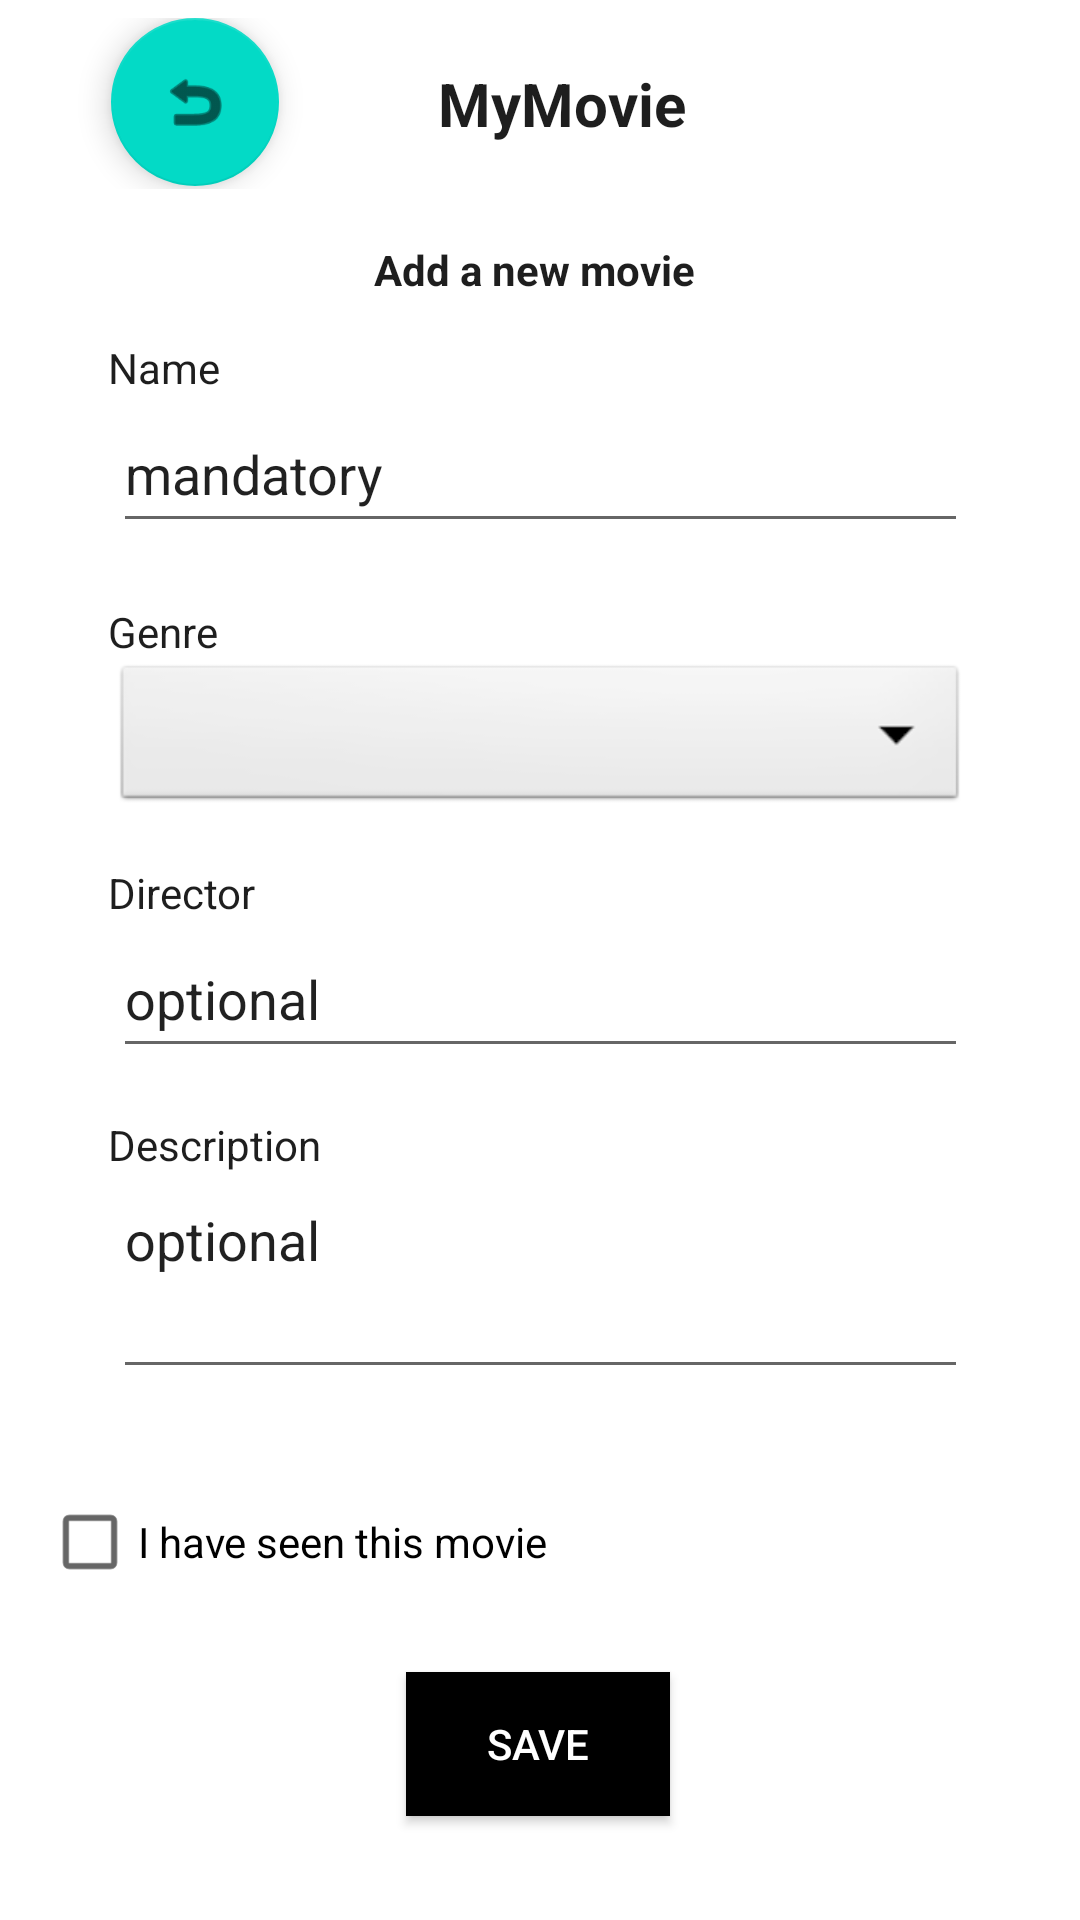

Icons on this 1080*1920 Android screen, each with its box as box(x1, y1, x2, y2):
Go Back: box(111, 18, 279, 186)
